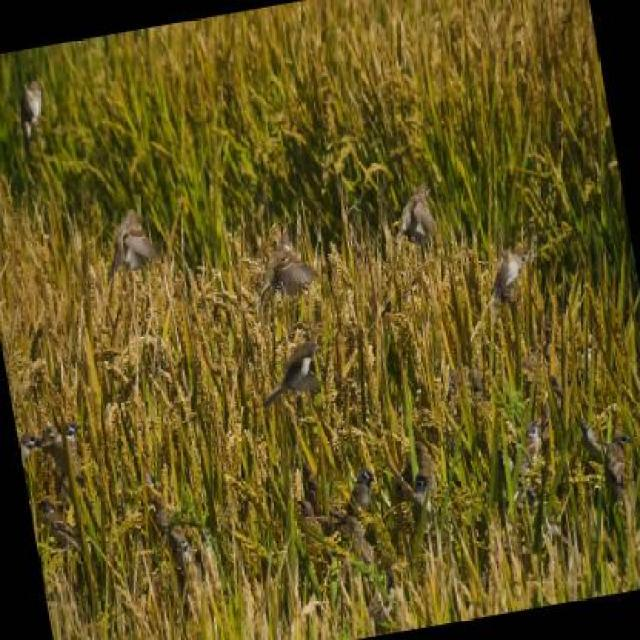Bird: (264, 340, 323, 408), (579, 419, 633, 492), (107, 209, 161, 279), (397, 183, 443, 242), (16, 72, 46, 141), (492, 246, 521, 306), (345, 467, 377, 519), (408, 469, 435, 525), (37, 495, 71, 536), (522, 414, 543, 466), (19, 430, 43, 464), (44, 425, 64, 465)
